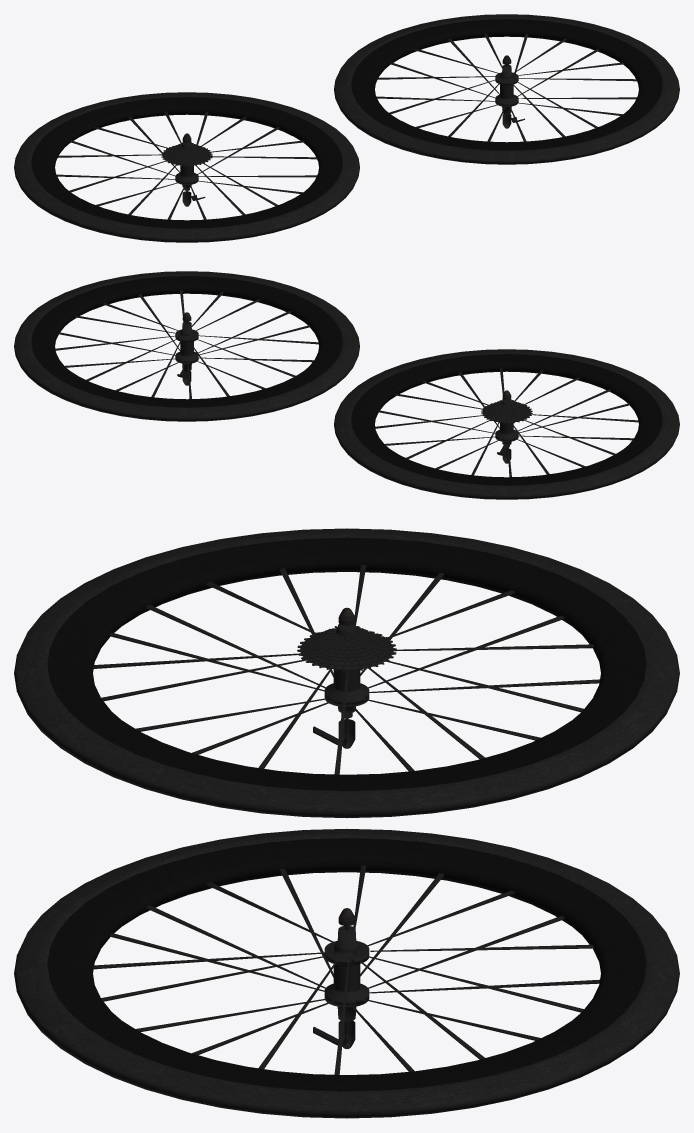
Rendered from generic_carbon_fibre_road_bike_wheels.glb.
3 views of the same model, one above another, from view 1: azimuth 30°, elevation 25°; view 2: azimuth 150°, elevation 25°; view 3: azimuth 270°, elevation 25° (orthographic). The views are drawn at different scales.
Parts seen in each view (by area): view 1: Front Wheel, Rear Wheel, Sprocket; view 2: Front Wheel, Rear Wheel, Sprocket; view 3: Front Wheel, Rear Wheel, Sprocket.
Part boxes in pixels (x1=…): Front Wheel: x1=334, y1=14, x2=679, y2=164; Rear Wheel: x1=14, y1=92, x2=359, y2=242; Sprocket: x1=161, y1=143, x2=212, y2=166; Front Wheel: x1=14, y1=271, x2=359, y2=421; Rear Wheel: x1=334, y1=349, x2=679, y2=499; Sprocket: x1=481, y1=400, x2=532, y2=423; Front Wheel: x1=14, y1=829, x2=679, y2=1118; Rear Wheel: x1=14, y1=528, x2=679, y2=817; Sprocket: x1=297, y1=626, x2=396, y2=671.
Size of the model in its own units: 8.7 by 0.9702 by 4.21.
2 materials, 2 textured.
